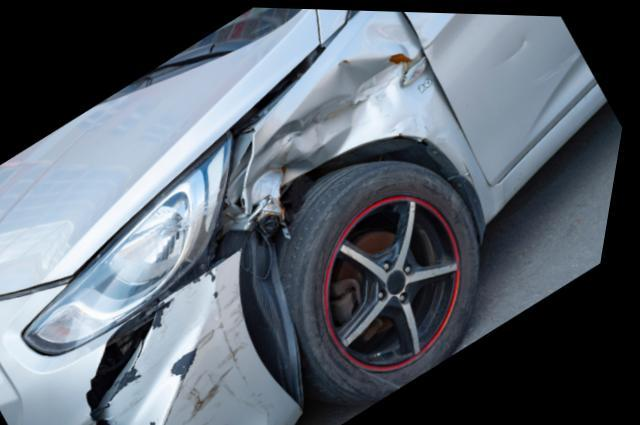crack: (98, 302, 168, 425)
dislocated part: (99, 244, 312, 425)
scratch: (251, 15, 442, 209), (152, 249, 292, 425)
